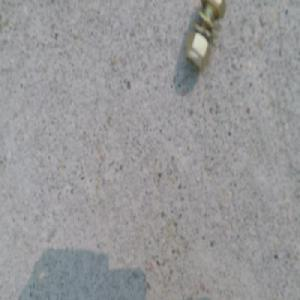BoltNutSet: (185, 0, 222, 71)
